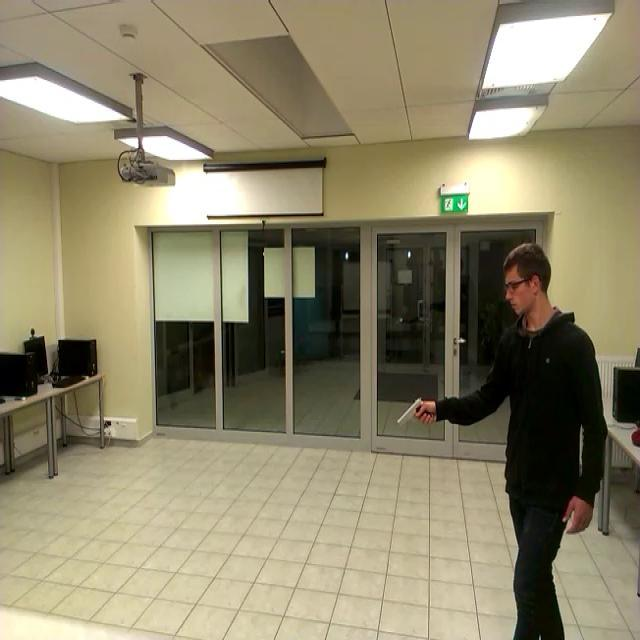Gun: (390, 388, 437, 441)
